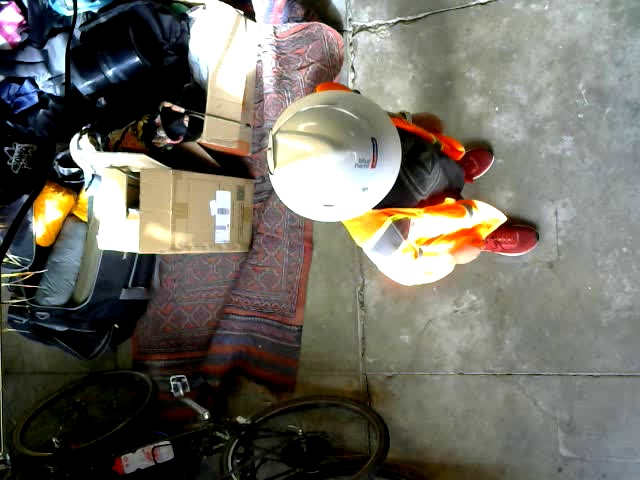one: (263, 133, 275, 174)
